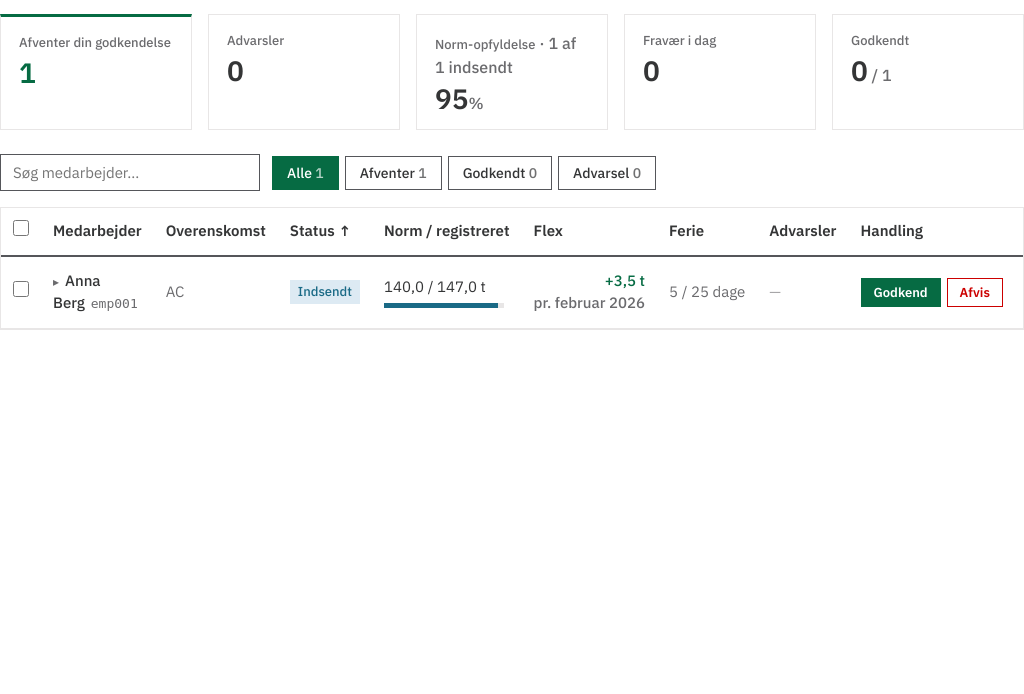
TeamRowDetail — accordion expand/collapse › clicking the row BODY toggles expansion
The width and height of the screenshot is (1024, 694).
Expected: the text "Anna Berg" is shown, [53, 270, 101, 312]
// Click a non-interactive cell (the agreement cell text).
Click the text "AC".
click(175, 291)  # box [154, 256, 278, 328]
(page scrolled)
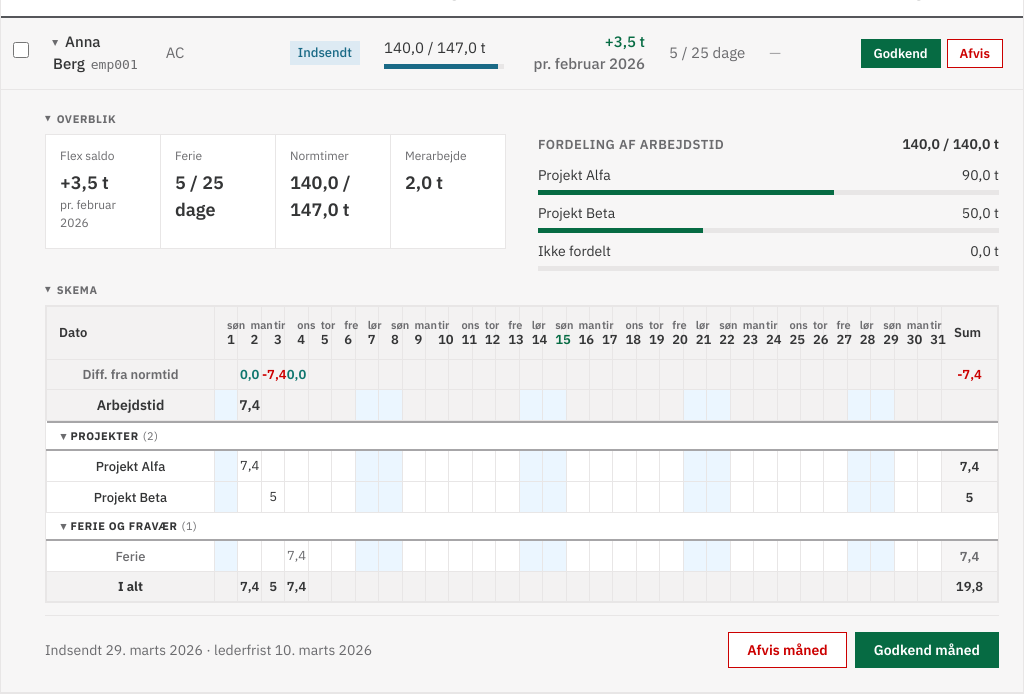
Expected: the row with test id "team-detail-row-emp001" is shown
